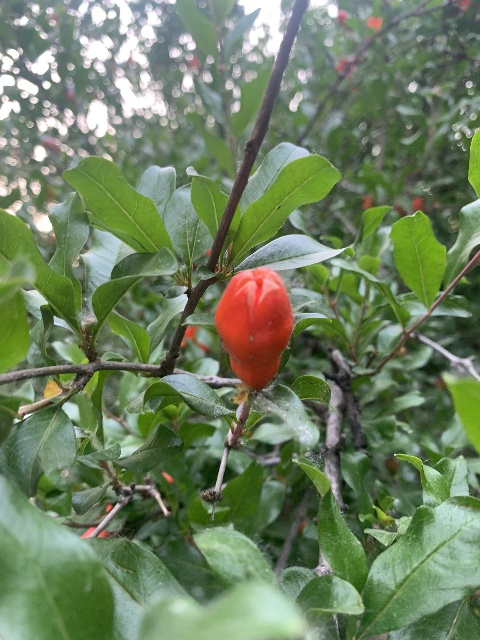flower: (215, 266, 293, 389)
